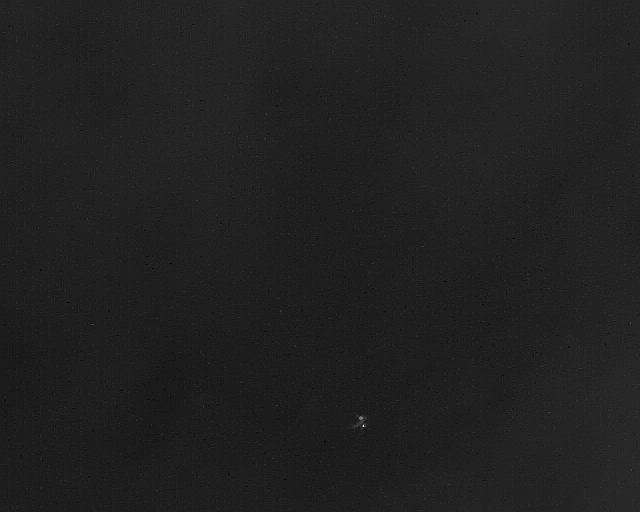Target: (353, 416, 369, 429)
